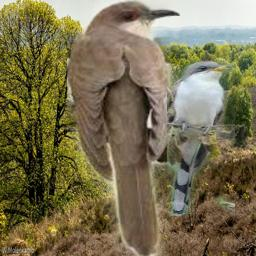Cuckoo: (67, 0, 180, 256), (167, 60, 235, 216)
